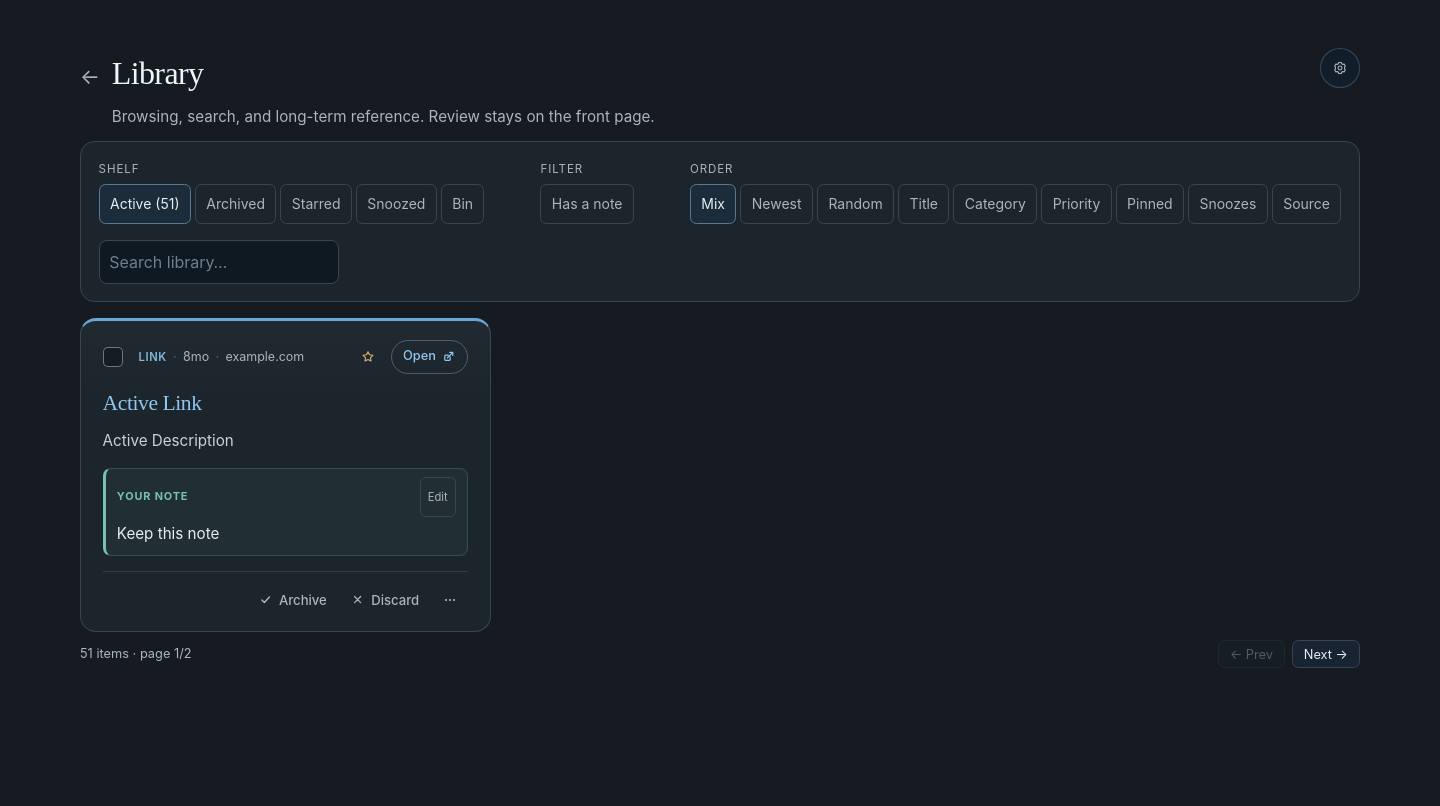
Library note draft and pagination protection › returns to the previous valid page after clearing the final filtered note
Check: the link "Active Link" is shown, box [103,391,202,415]
Click the button "Has a note": point(587, 204) [540,184,634,224]
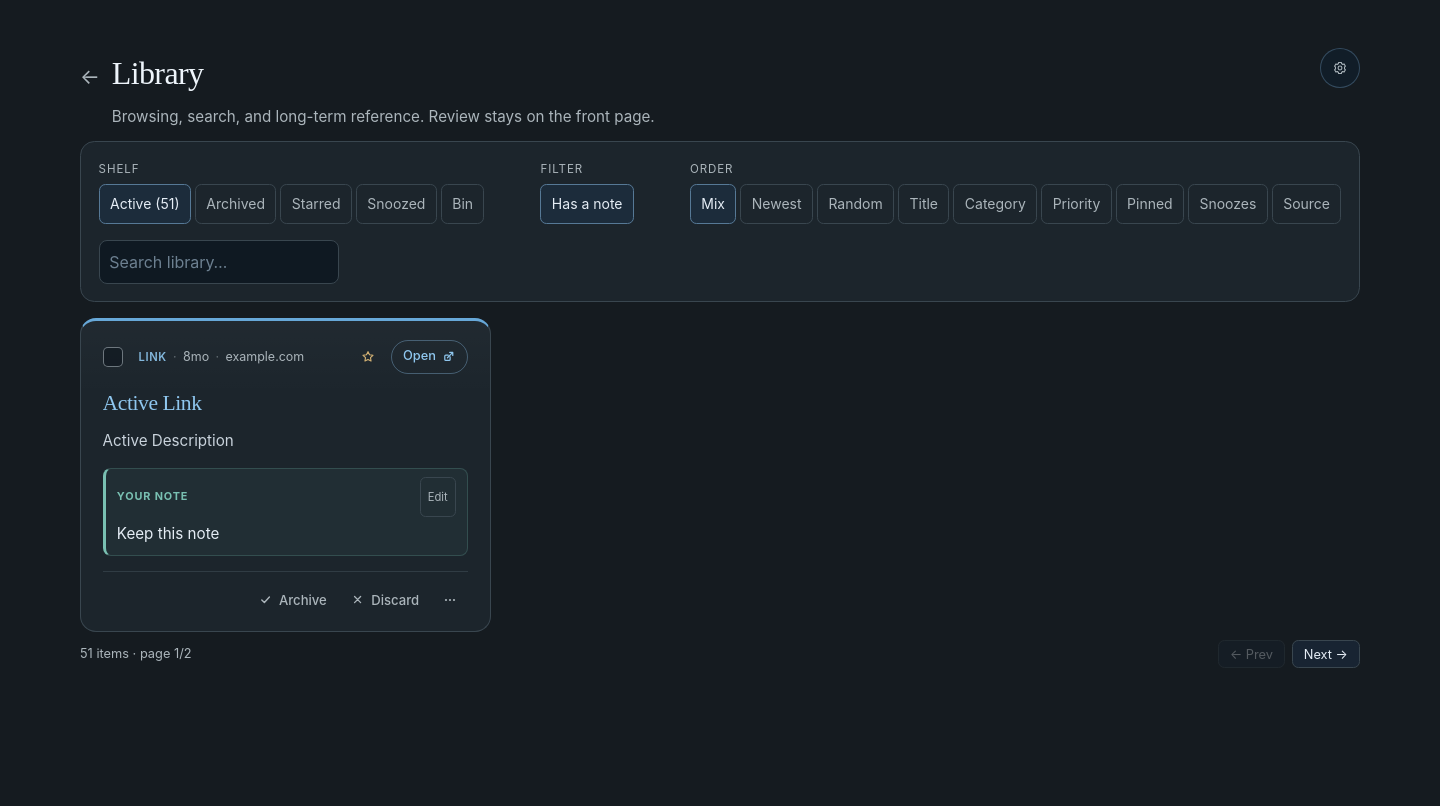
Click the button "Next →": point(1326, 654) [1292,640,1360,668]
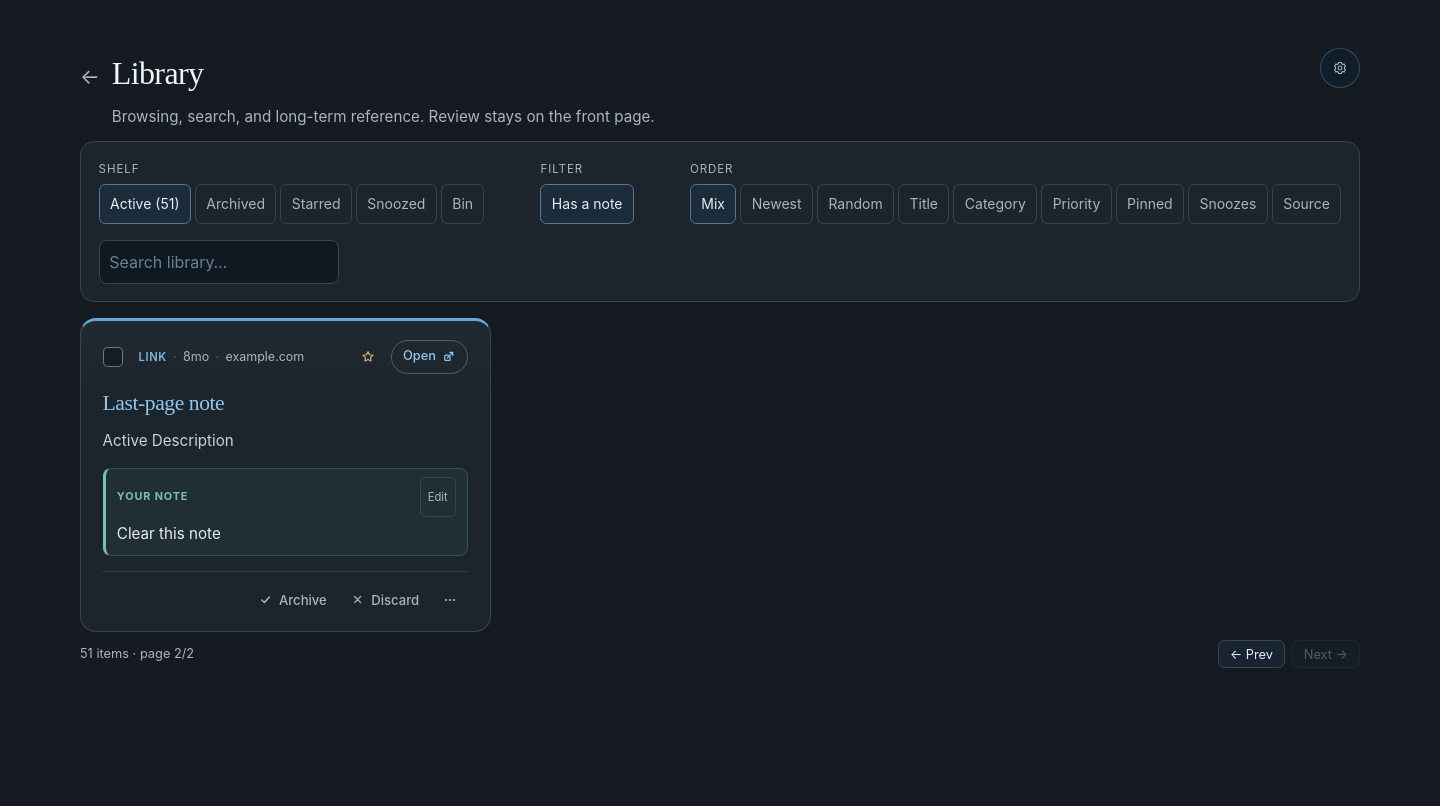
Check: the link "Last-page note" is shown, box [103,391,224,415]
Click the button with aria-label "Edit note": point(438, 497) [420,477,456,517]
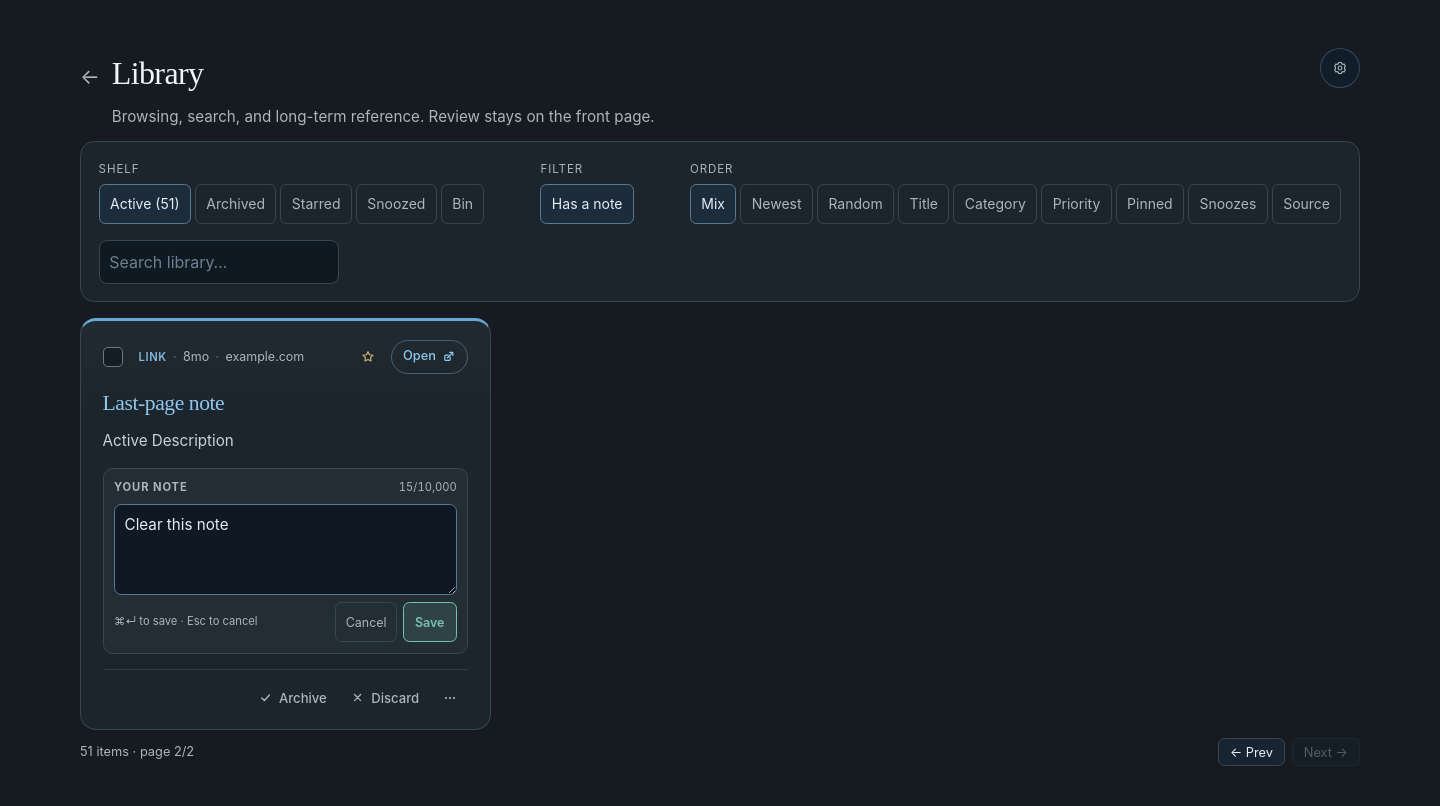
Clear the text box labelled "Your note": point(285, 550) [114,504,457,595]
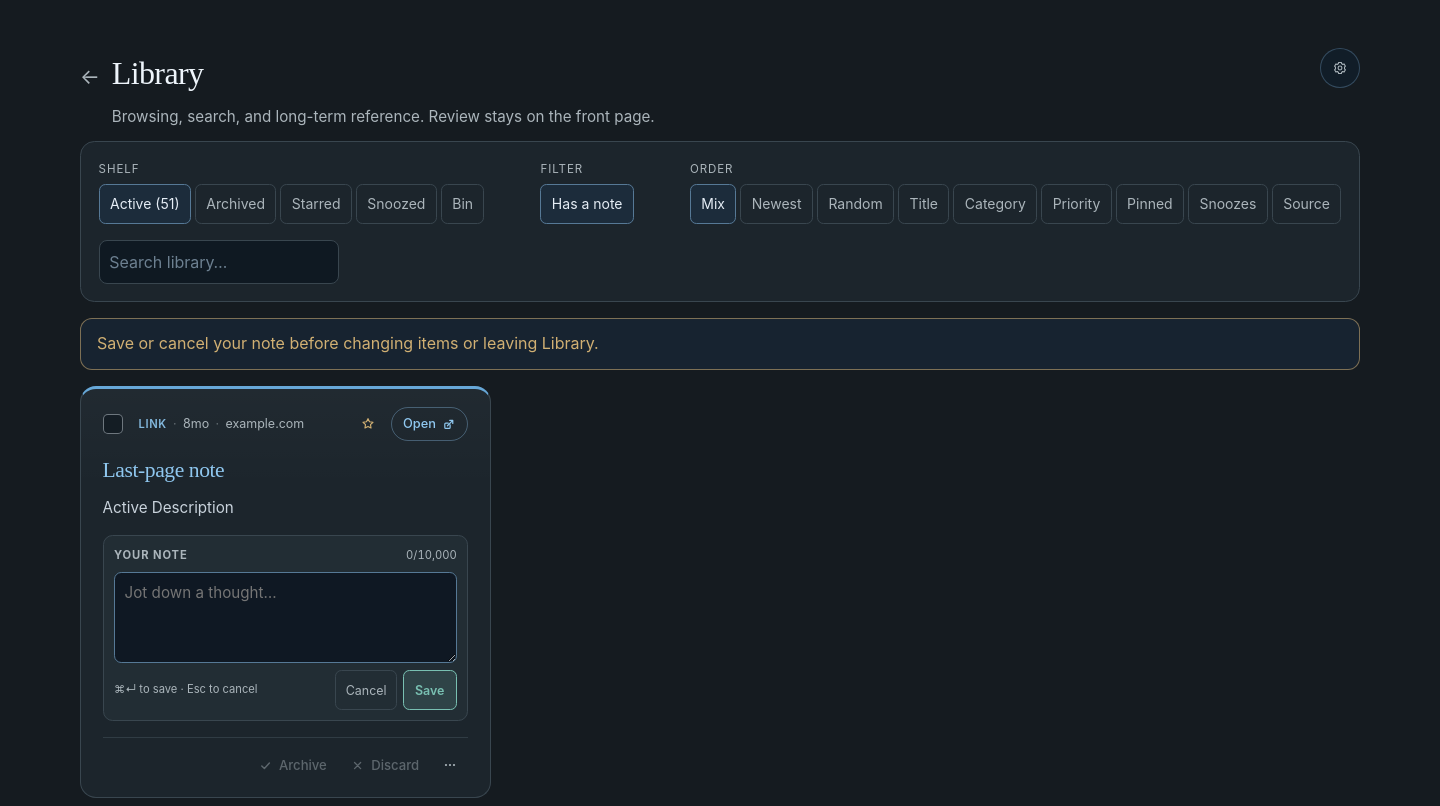
Click the button "Save": point(430, 690) [403,670,457,710]
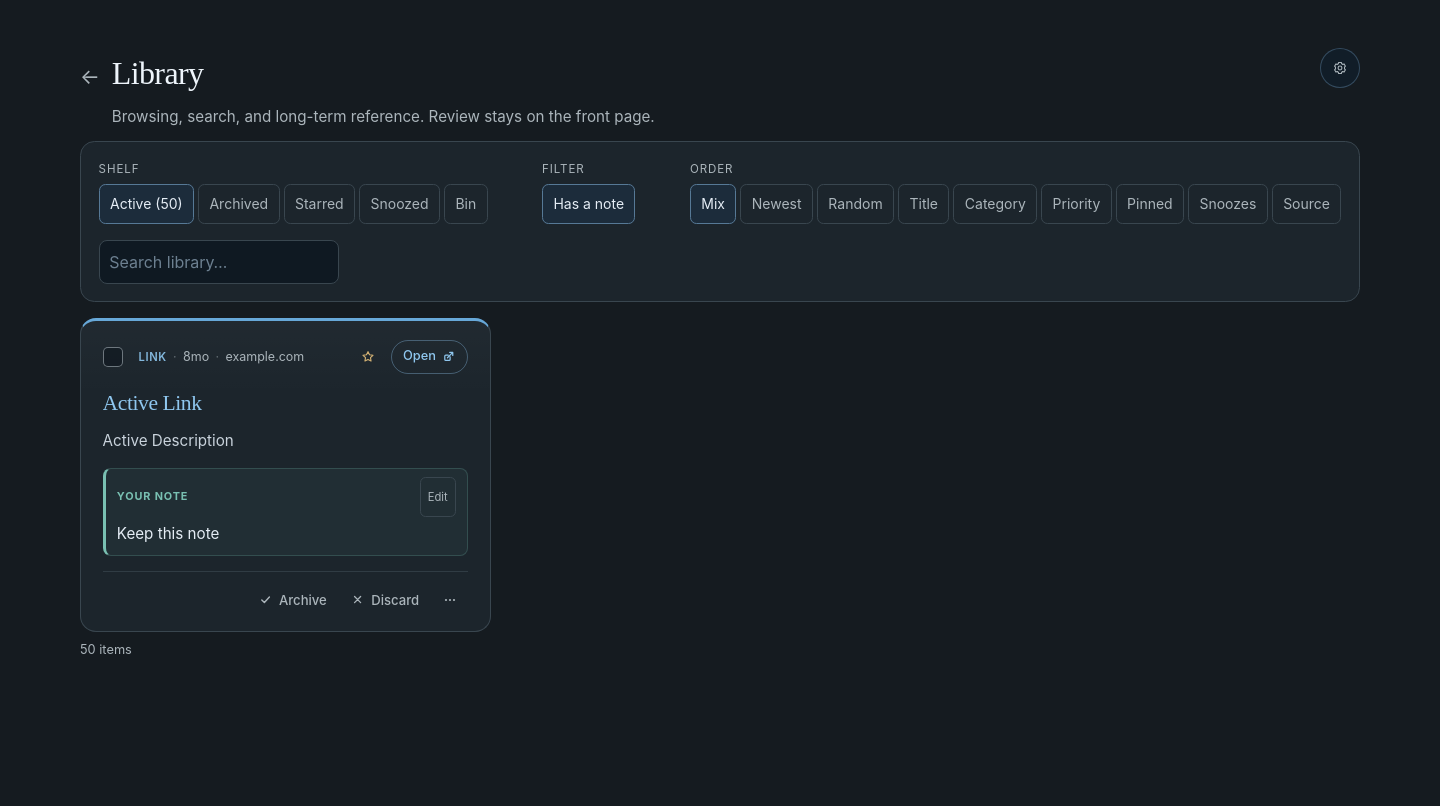
Check: the link "Active Link" is shown, box [103,391,202,415]
Check: the link "Last-page note" is gone
